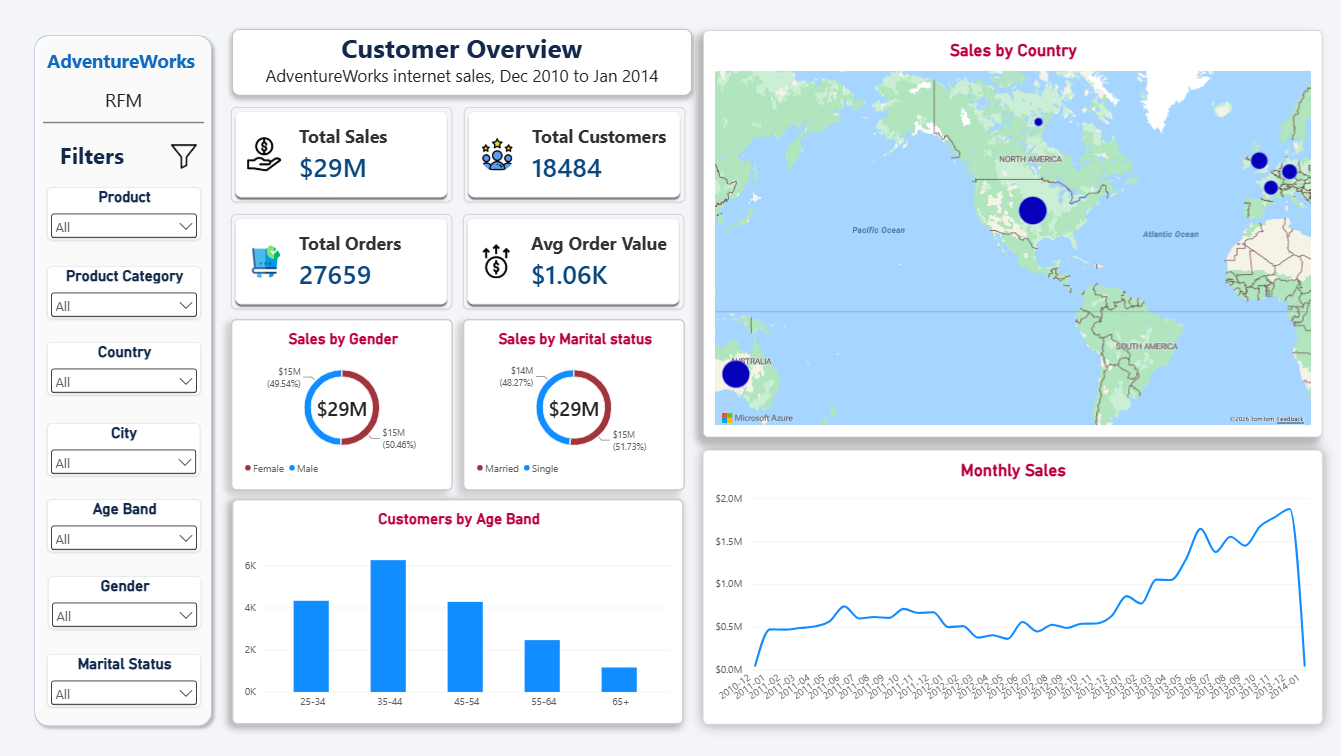

This screenshot's page, from the dashboard's own definition file:
{"tool":"powerbi","page":{"name":"Customer Overview","canvas":[1920,1080],"ordinal":0},"visuals":[{"type":"textbox","box":[333.3,41.7,656.7,95],"z":0},{"type":"shape","box":[41.7,41.7,271.7,1005],"z":1000},{"type":"textbox","box":[68.3,198.3,128.6,52.9],"z":2000},{"type":"textbox","box":[52.9,68.6,250,97.1],"z":3000},{"type":"shape","box":[63.3,153.3,230,44.3],"z":4000},{"type":"image","box":[245,198.3,37.1,50],"z":5000},{"type":"slicer","title":"Product","fields":{"Values":["DimProduct.ProductName"]},"box":[68.3,266.7,220,75.7],"z":6000},{"type":"slicer","title":"Country","fields":{"Values":["DimGeography.Country"]},"box":[68.6,488.6,220,75.7],"z":7000},{"type":"slicer","title":"City","fields":{"Values":["DimGeography.City"]},"box":[68.6,604.3,218.6,75.7],"z":8000},{"type":"slicer","title":"Age Band","fields":{"Values":["DimCustomer.Age Band"]},"box":[68.6,712.9,220,75.7],"z":9000},{"type":"slicer","title":"Gender","fields":{"Values":["DimCustomer.Gender"]},"box":[70,822.9,218.6,75.7],"z":10000},{"type":"slicer","title":"Marital Status","fields":{"Values":["DimCustomer.MaritalStatus"]},"box":[68.6,934.3,220,75.7],"z":11000},{"type":"slicer","title":"Product Category","fields":{"Values":["DimProductCategory.Category"]},"box":[68.6,380,220,75.7],"z":12000},{"type":"cardVisual","fields":{"Data":["_Measures.Total Orders"]},"box":[331.7,305,315.7,135.7],"z":13000},{"type":"cardVisual","fields":{"Data":["_Measures.Total Customers"]},"box":[665,153.3,315.7,135.7],"z":14000},{"type":"cardVisual","fields":{"Data":["_Measures.Total Sales"]},"box":[331.7,153.3,315.7,135.7],"z":15000},{"type":"cardVisual","title":"Revenue Growth","fields":{"Data":["_Measures.Avg Order Value"]},"box":[663.3,305,315.7,135.7],"z":16000},{"type":"azureMap","title":"Sales by Country","fields":{"Category":["DimGeography.Country"],"Size":["_Measures.Total Sales"]},"box":[1005,43.3,885,581.7],"z":17000},{"type":"donutChart","title":"Sales by Gender","fields":{"Category":["DimCustomer.Gender"],"Y":["_Measures.Total Sales"]},"box":[331.7,455,316.7,245],"z":18000},{"type":"donutChart","title":"Sales by Marital status","fields":{"Category":["DimCustomer.MaritalStatus"],"Y":["_Measures.Total Sales"]},"box":[663.3,455,316.7,245],"z":19000},{"type":"columnChart","title":"Customers by Age Band","fields":{"Category":["DimCustomer.Age Band"],"Y":["_Measures.Total Customers"]},"box":[333.3,713.3,645,321.7],"z":20000},{"type":"lineChart","title":"Monthly Sales","fields":{"Category":["DimDate.Year-Month"],"Y":["_Measures.Total Sales"]},"box":[1005,643.3,885,391.7],"z":21000}]}

Visuals, with their boxes in screenshot pixels (x1, y1, x2, y2), scaled from the page's 1920x1080 canvas onto the 1341x756 screenshot:
textbox: rect(233, 29, 691, 96)
shape: rect(29, 29, 219, 733)
textbox: rect(48, 139, 138, 176)
textbox: rect(37, 48, 212, 116)
shape: rect(44, 107, 205, 138)
image: rect(171, 139, 197, 174)
"Product" slicer: rect(48, 187, 201, 240)
"Country" slicer: rect(48, 342, 202, 395)
"City" slicer: rect(48, 423, 201, 476)
"Age Band" slicer: rect(48, 499, 202, 552)
"Gender" slicer: rect(49, 576, 202, 629)
"Marital Status" slicer: rect(48, 654, 202, 707)
"Product Category" slicer: rect(48, 266, 202, 319)
cardVisual - _Measures.Total Orders: rect(232, 214, 452, 308)
cardVisual - _Measures.Total Customers: rect(464, 107, 685, 202)
cardVisual - _Measures.Total Sales: rect(232, 107, 452, 202)
"Revenue Growth" cardVisual: rect(463, 214, 684, 308)
"Sales by Country" azureMap: rect(702, 30, 1320, 438)
"Sales by Gender" donutChart: rect(232, 318, 453, 490)
"Sales by Marital status" donutChart: rect(463, 318, 684, 490)
"Customers by Age Band" columnChart: rect(233, 499, 683, 724)
"Monthly Sales" lineChart: rect(702, 450, 1320, 724)
